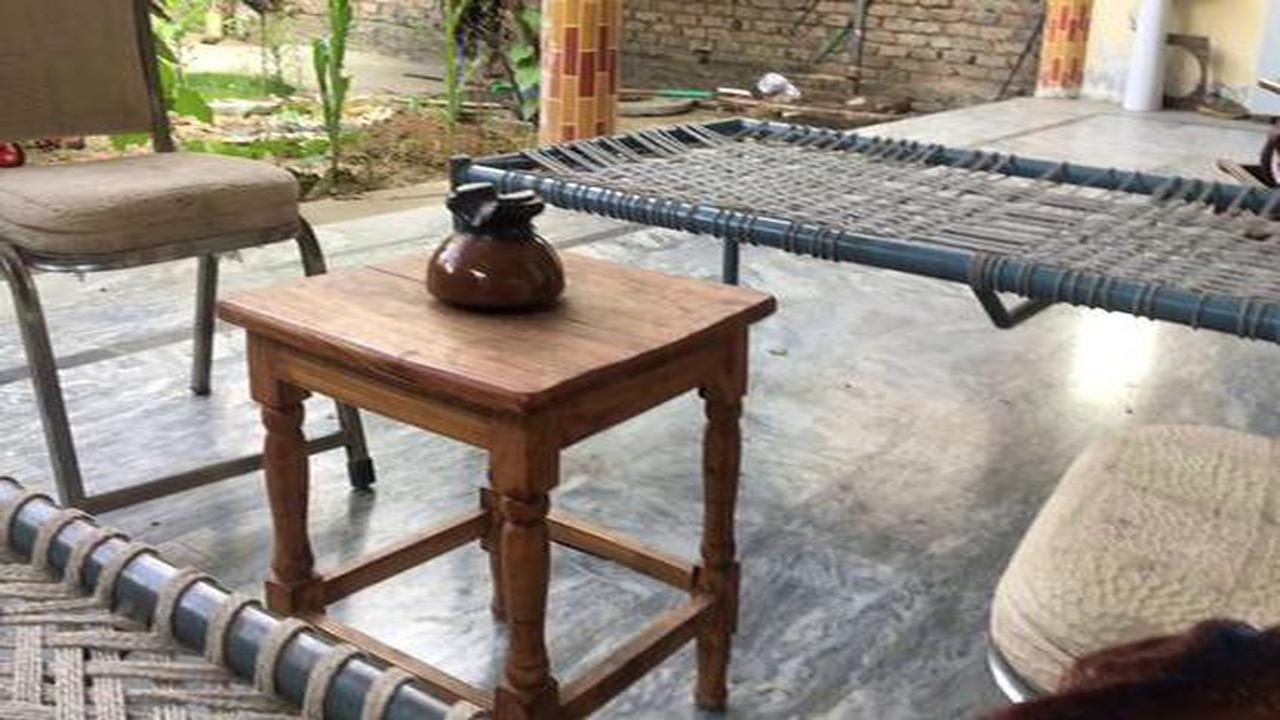insulator_pin: (416, 172, 588, 322)
